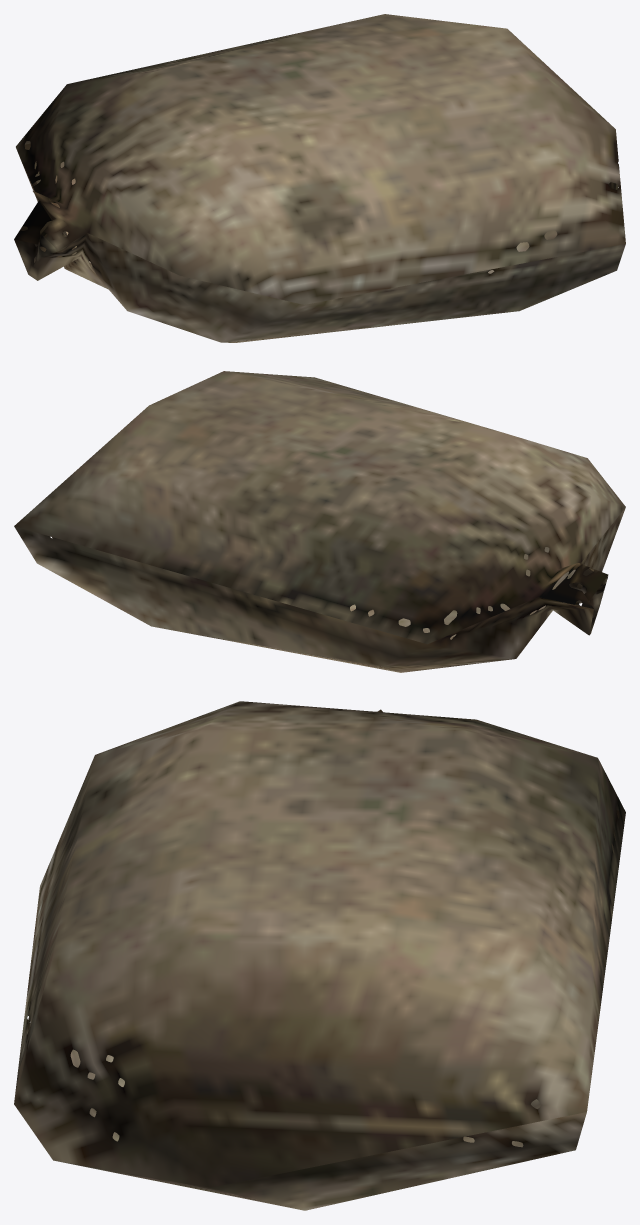
The model's file is Sandbag.fbx.
3 renders of one model, top to bottom at view 1: azimuth 30°, elevation 25°; view 2: azimuth 150°, elevation 25°; view 3: azimuth 270°, elevation 25°, orthographic. The views are drawn at different scales.
Parts seen in each view (by area): view 1: Mesh; view 2: Mesh; view 3: Mesh.
Part boxes in pixels (<box>): Mesh: <box>14,14,625,342</box>; Mesh: <box>14,371,625,672</box>; Mesh: <box>14,701,625,1210</box>.
Size of the model in its own units: 84.51 by 30.14 by 59.66.
